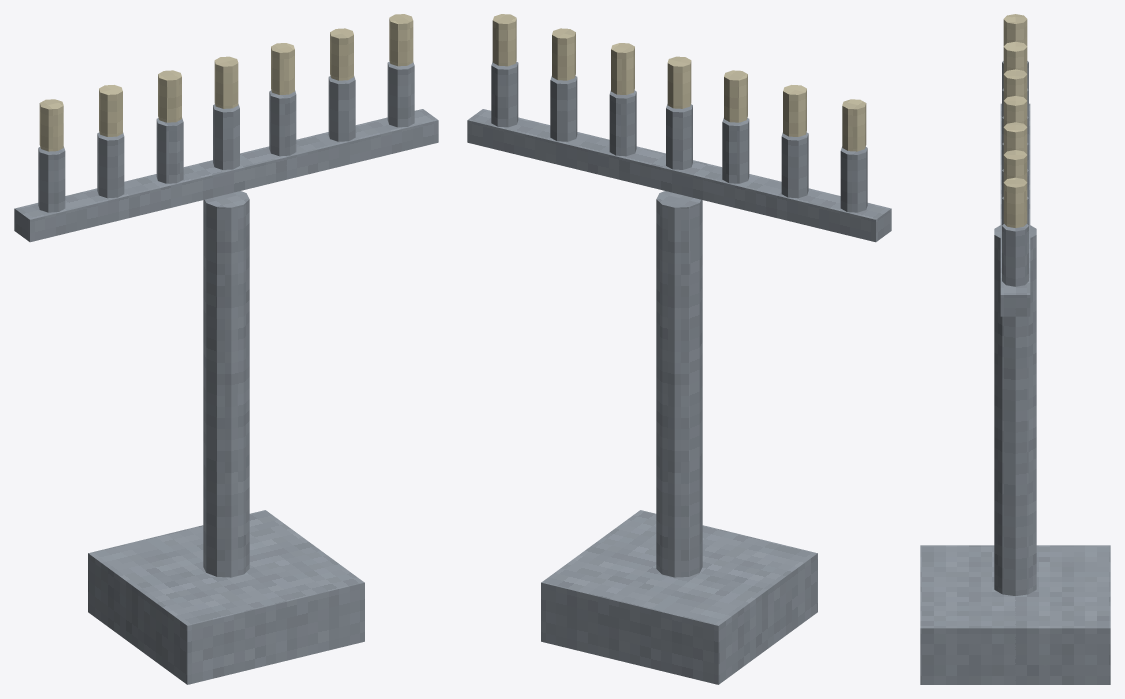
Rendered from level_blockout_castle_iron_candelabrum.glb.
The picture shows the model from 3 angles, left to right: view 1: azimuth 30°, elevation 25°; view 2: azimuth 150°, elevation 25°; view 3: azimuth 270°, elevation 25°; orthographic projection. The views are drawn at different scales.
Parts seen in each view (by area): view 1: level_blockout_castle_iron_candelabrum; view 2: level_blockout_castle_iron_candelabrum; view 3: level_blockout_castle_iron_candelabrum.
Part boxes in pixels (x1=…): level_blockout_castle_iron_candelabrum: x1=14, y1=14, x2=438, y2=684; level_blockout_castle_iron_candelabrum: x1=467, y1=14, x2=891, y2=684; level_blockout_castle_iron_candelabrum: x1=920, y1=14, x2=1110, y2=684.
Size of the model in its own units: 1.52 by 2.01 by 0.64.
2 materials, 2 textured.
